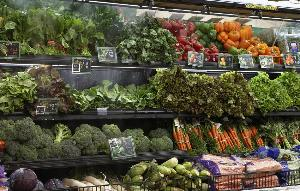bell_pepper: (169, 22, 280, 66)
carrot: (172, 118, 268, 150), (208, 154, 282, 186)
